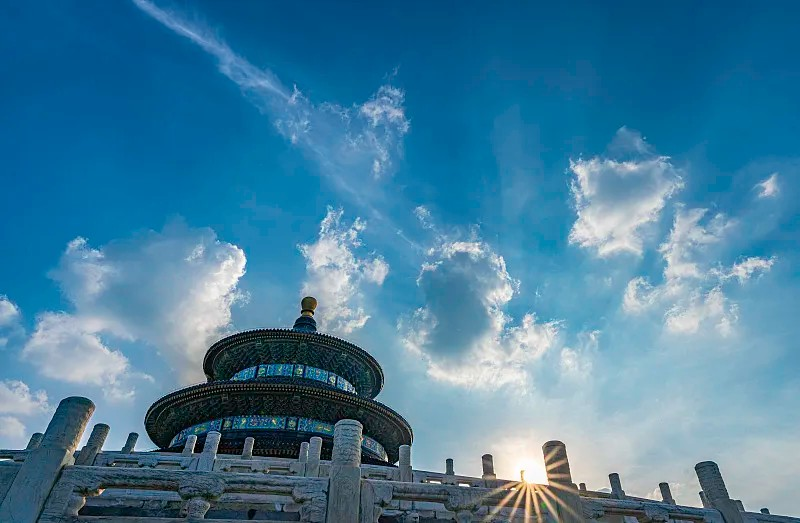Heaven: (142, 295, 415, 470)
